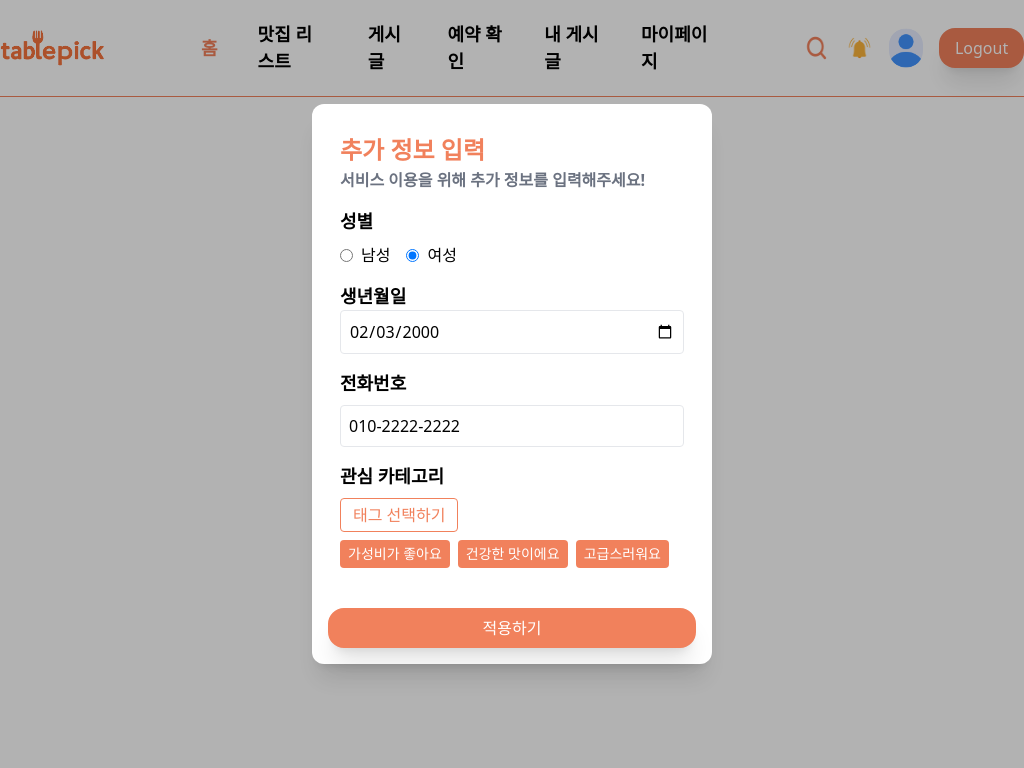
Test: 로그인/로그아웃 › 최초 로그인 시나리오 › 모든 필수 정보를 입력하면 성공적으로 저장되고 홈으로 이동하는지 확인
Click the button with test id "add-info-save-button" at (512, 628), box [328,608,696,648]
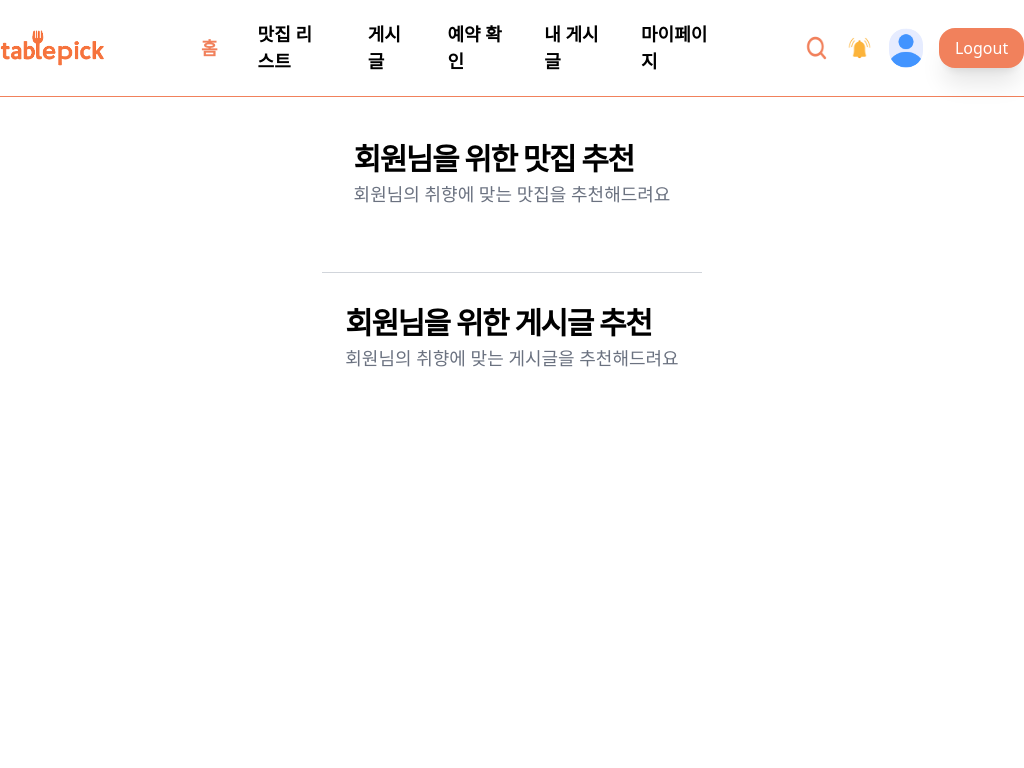
Now the element with test id "add-info-modal" is gone
